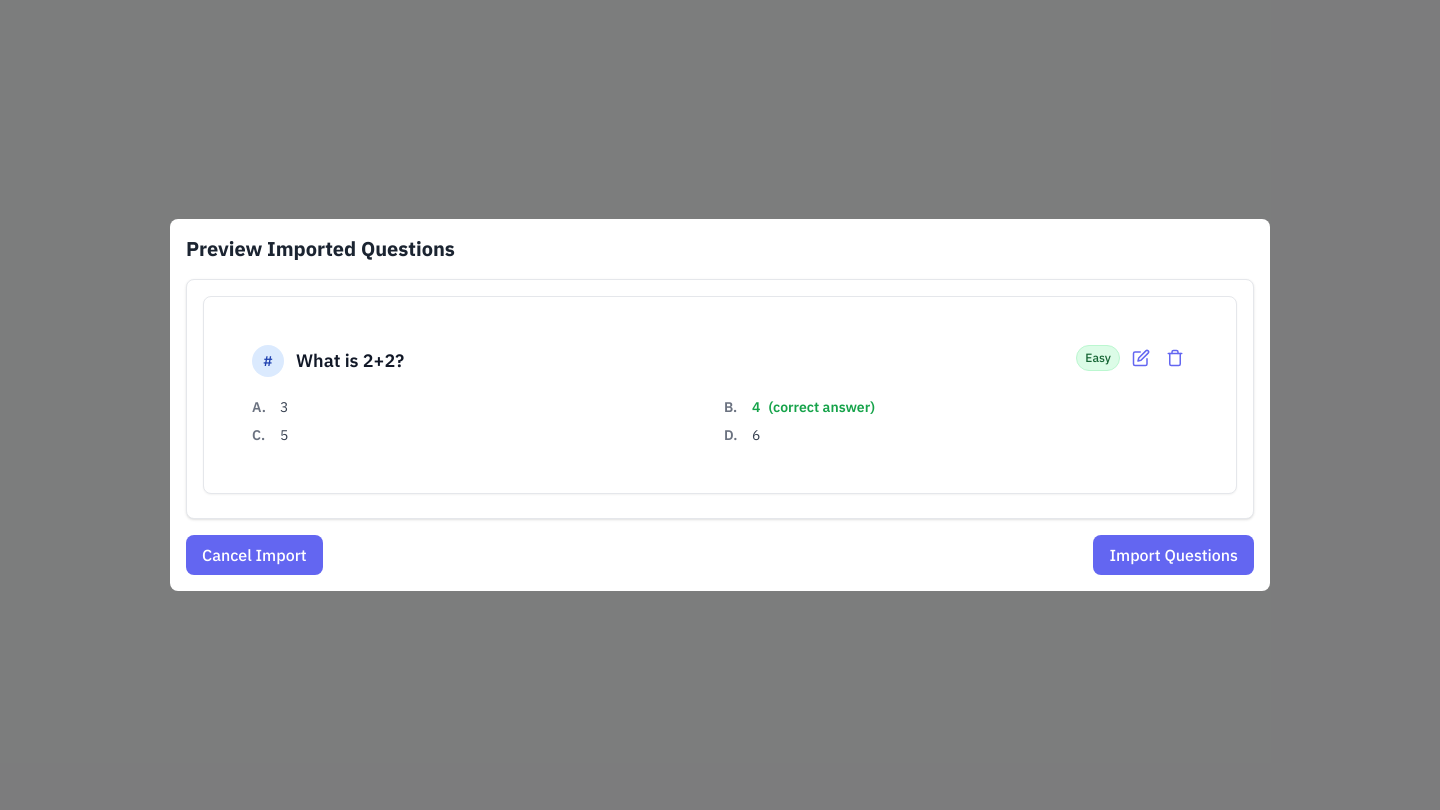
Test case: PreviewImportModal › allows editing a question and saving changes
The image size is (1440, 810).
Click the button named "edit question". click: (1141, 358)
box: left=1128, top=345, right=1154, bottom=371
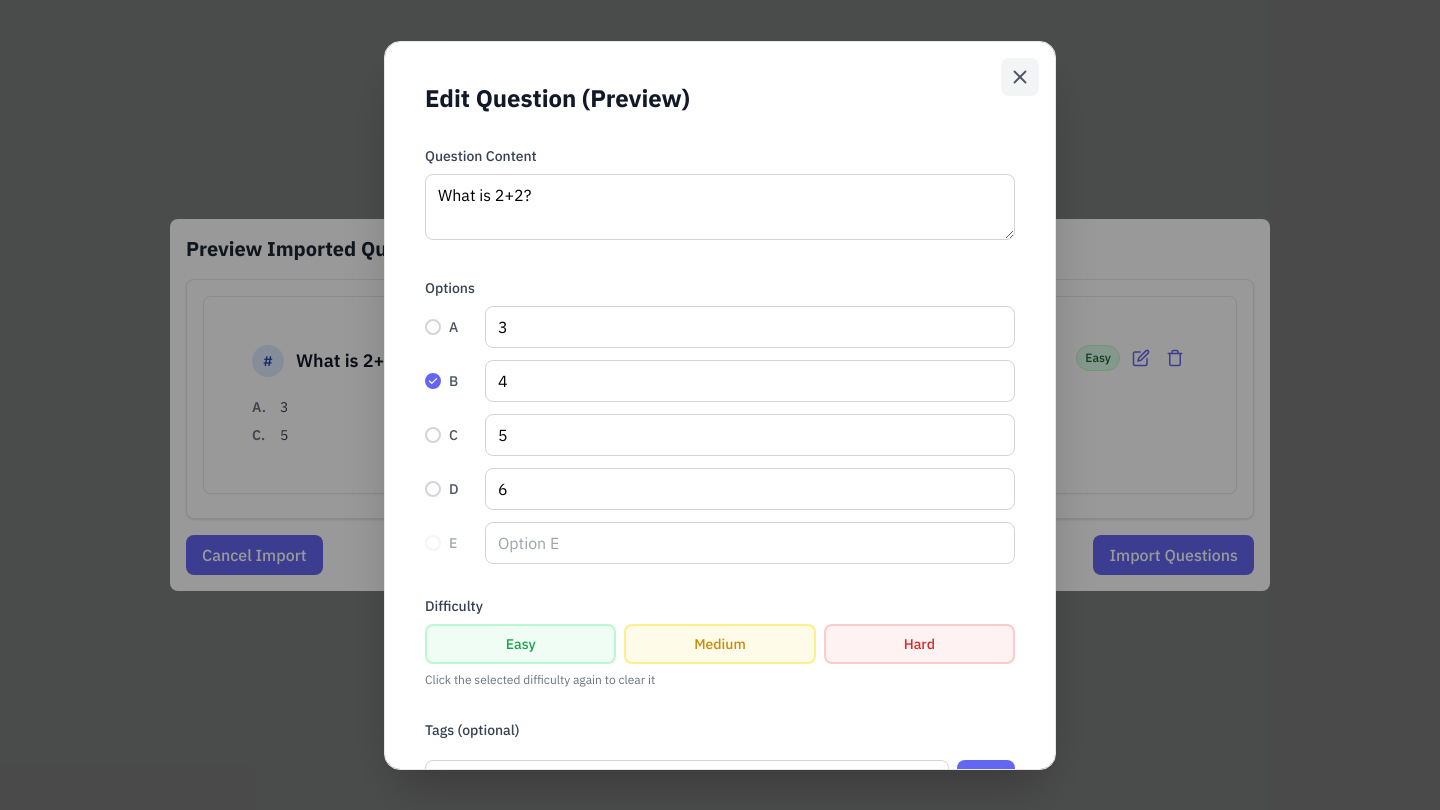
Replace the text in the text box with "What is 3+3?". click: (720, 206)
box: left=425, top=174, right=1015, bottom=240
(page scrolled)
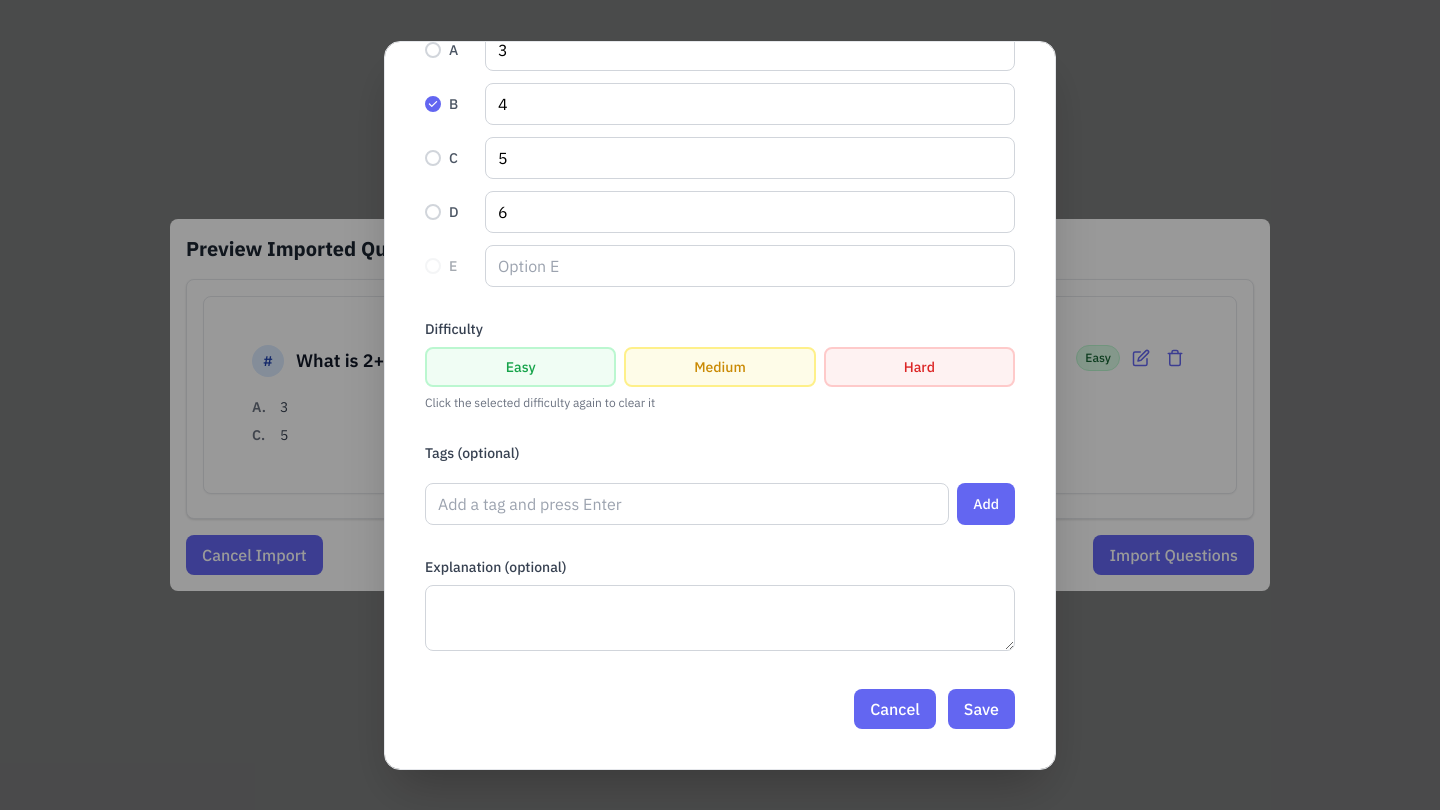
Click the button "Save". click: (981, 708)
box: left=948, top=688, right=1015, bottom=728
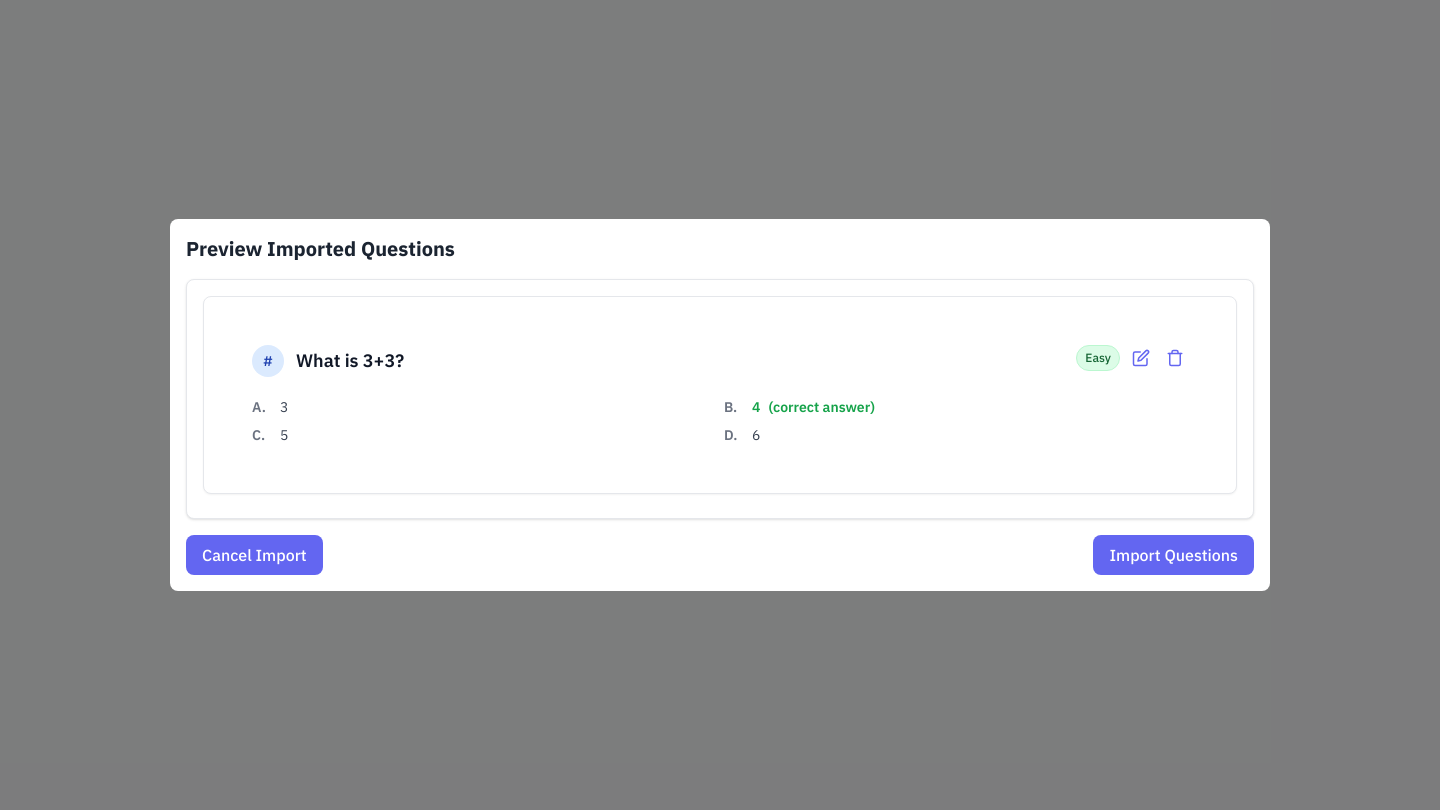
Check: the heading "What is 3+3?" is shown, box left=296, top=347, right=404, bottom=375
